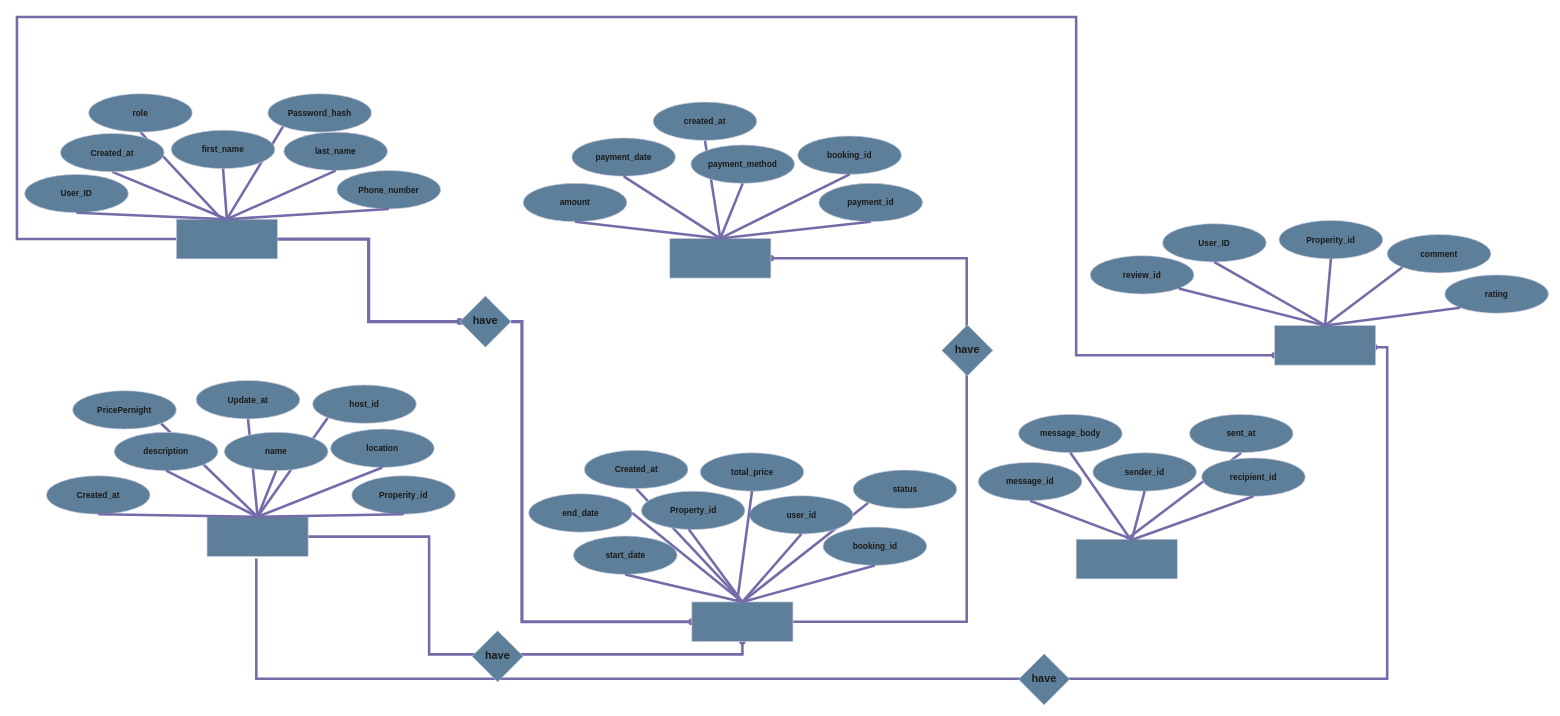
Image size: 1560x716. Some labels were removed from this diagram. Here are the shapes that lost their labels. From the top down, the centre of each, then its label:
At point 226,239: "Users".
At point 720,258: "Payment".
At point 1325,345: "Review".
At point 257,536: "Properties".
At point 1126,559: "Message".
At point 742,621: "Booking".
